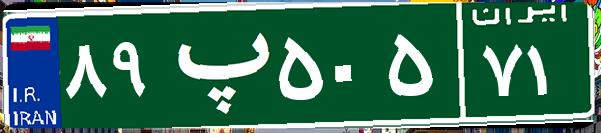0: (330, 28, 385, 110)
1: (525, 38, 570, 115)
5: (385, 28, 445, 110), (273, 28, 330, 110)
7: (475, 38, 525, 113)
8: (57, 26, 110, 107)
9: (110, 28, 158, 105)
پ: (158, 15, 273, 115)
